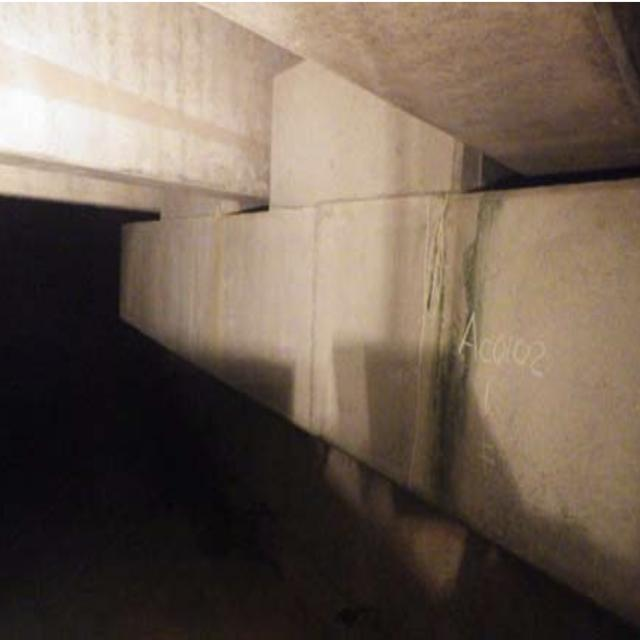leakage: (413, 166, 487, 530)
